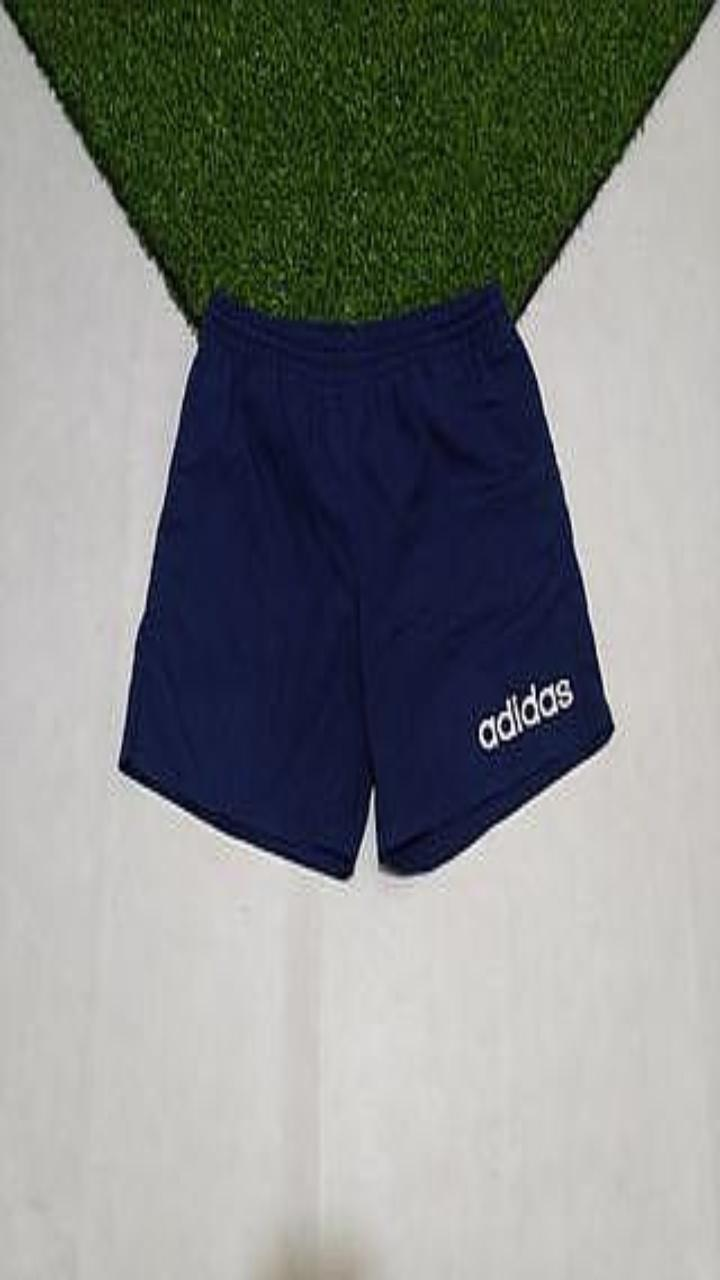Shorts: (119, 283, 612, 877)
